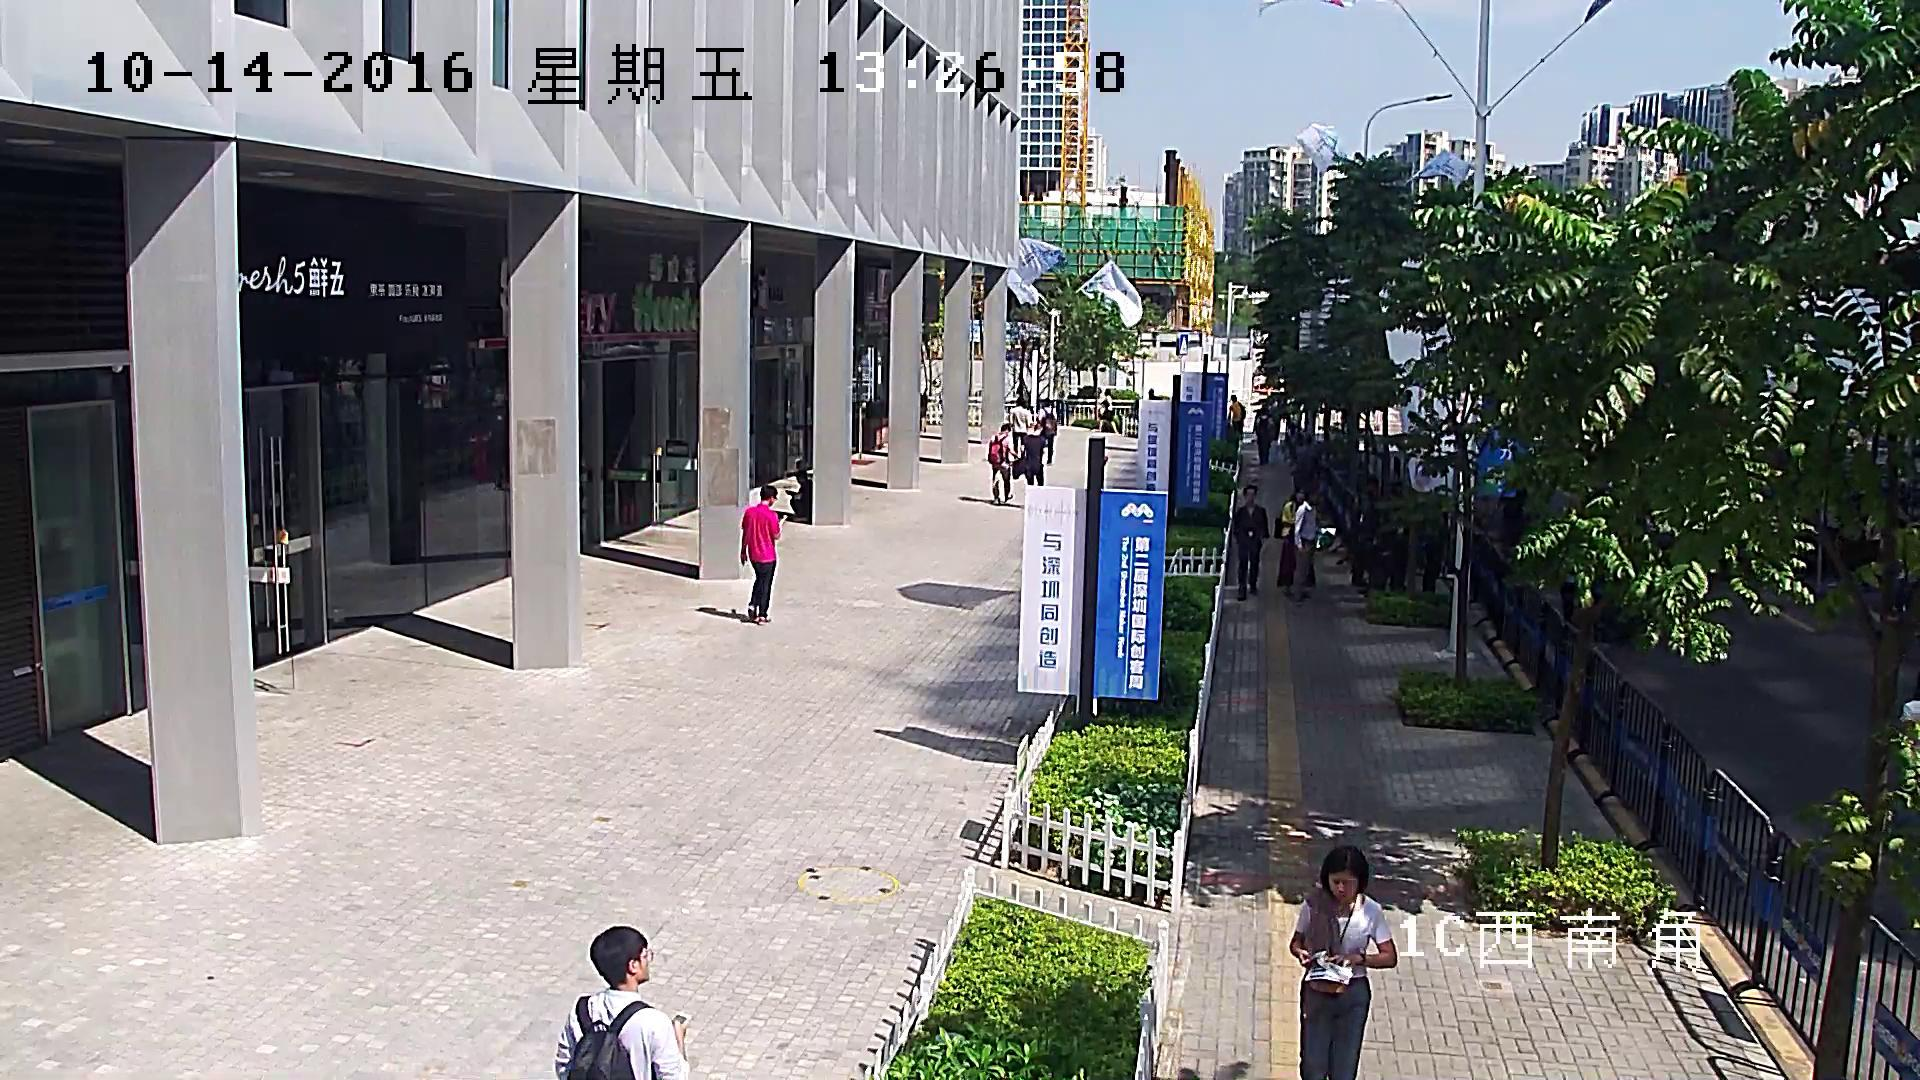person: (1288, 844, 1395, 1080), (554, 925, 689, 1080), (740, 484, 788, 626), (1293, 486, 1336, 601), (1274, 486, 1316, 597), (1234, 484, 1270, 600), (988, 423, 1025, 506), (1351, 476, 1379, 585), (988, 424, 1017, 505), (1034, 398, 1056, 463), (1020, 425, 1045, 485), (785, 469, 811, 523), (1009, 396, 1031, 456), (1254, 409, 1274, 464), (1097, 388, 1117, 432), (1227, 394, 1245, 438), (1559, 574, 1575, 622)
